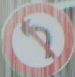Don't turn left: (5, 5, 66, 68)
